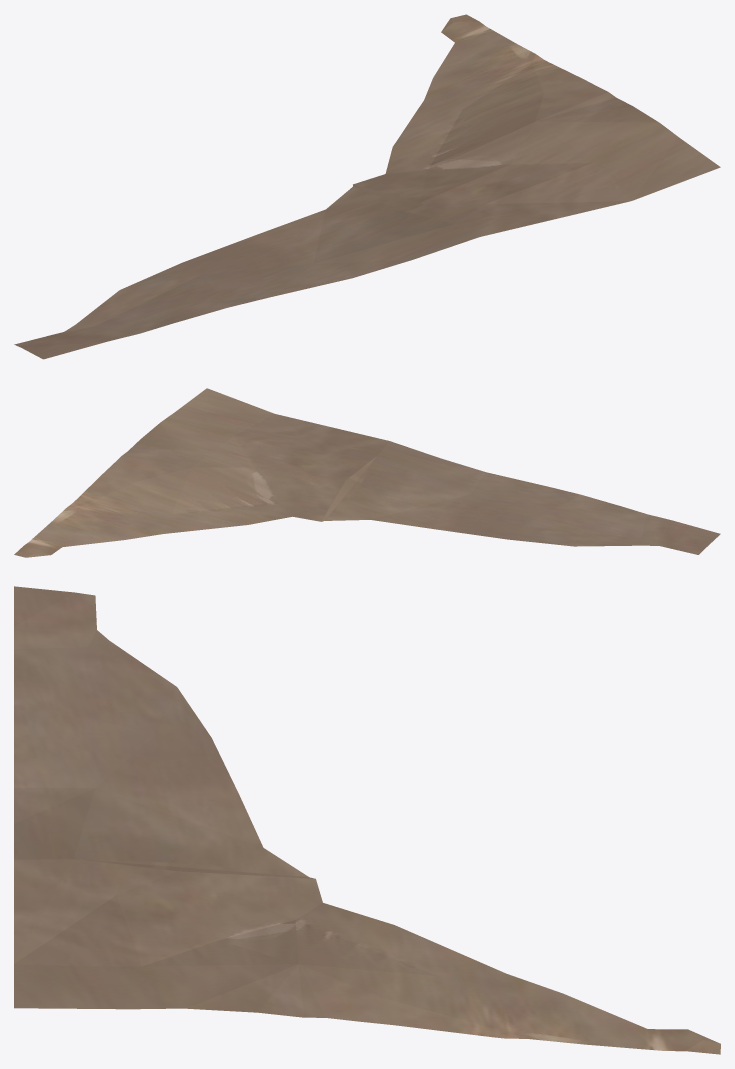
3 views of the same model, one above another, from view 1: azimuth 30°, elevation 25°; view 2: azimuth 150°, elevation 25°; view 3: azimuth 270°, elevation 25° (orthographic). The views are drawn at different scales.
Size of the model in its own units: 2.09 by 0.0983 by 1.36.
Materials: 1 (1 with a texture image).
